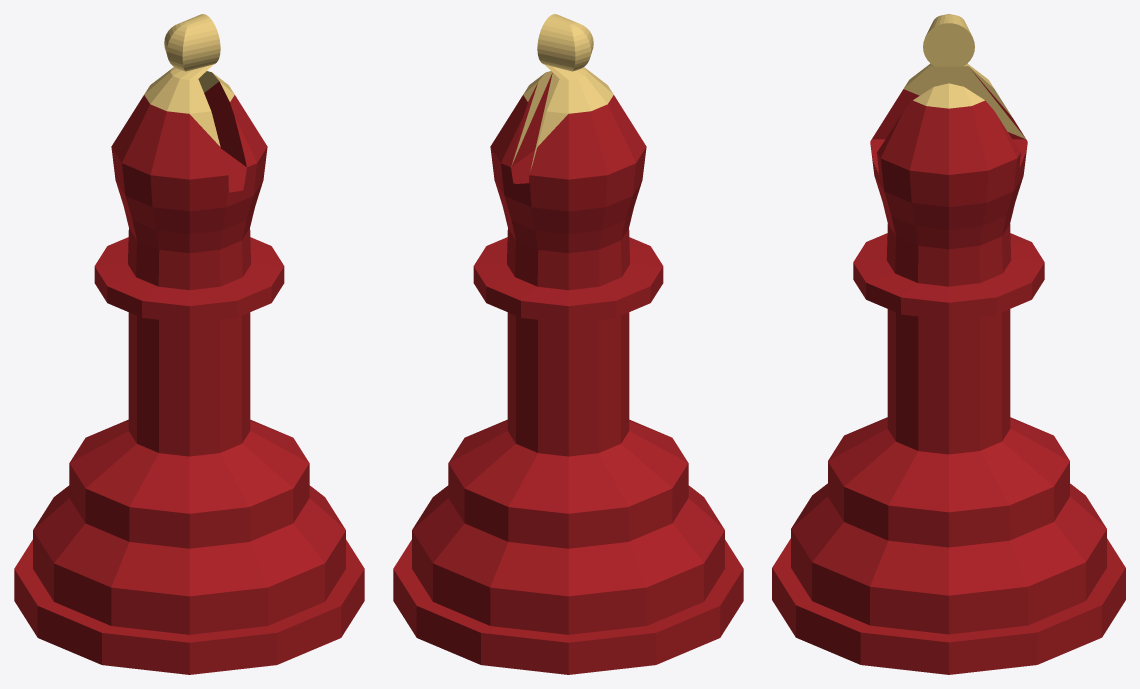
The model's file is lowpoly_b_b.glb.
The picture shows the model from 3 angles, left to right: view 1: azimuth 30°, elevation 25°; view 2: azimuth 150°, elevation 25°; view 3: azimuth 270°, elevation 25°; orthographic projection.
Parts seen in each view (by area): view 1: x; view 2: x; view 3: x.
Boxes of the visible parts, x1,y1,x2,y2 form: x: (14,14,364,674); x: (393,14,743,674); x: (772,14,1125,674).
Bounding box in the file's own units: 0.4922 × 0.9 × 0.4922.
